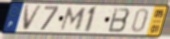0: (130, 7, 150, 34)
1: (84, 5, 100, 34)
7: (39, 5, 62, 32)
B: (106, 7, 131, 34)
M: (58, 6, 88, 31)
V: (22, 4, 44, 32)
